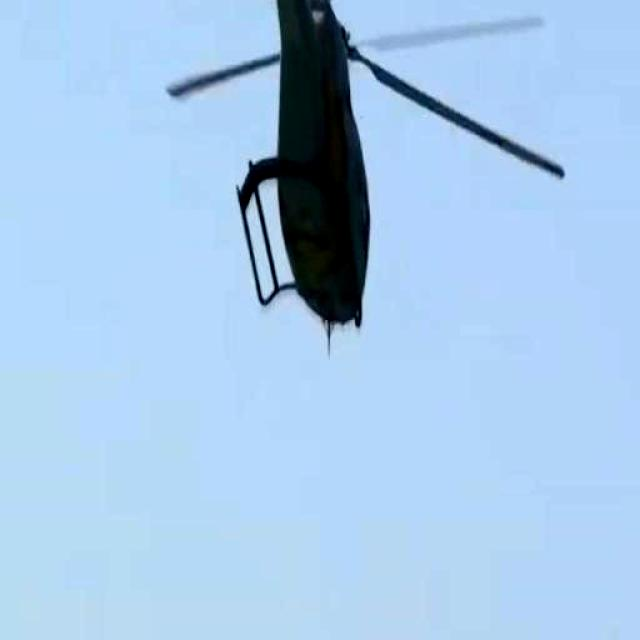drone: (216, 0, 454, 411)
